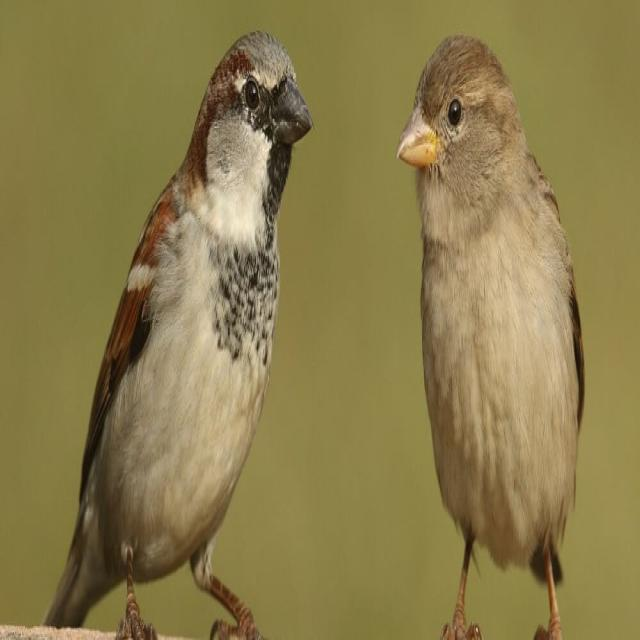bird: (30, 31, 314, 640), (400, 24, 613, 640)
